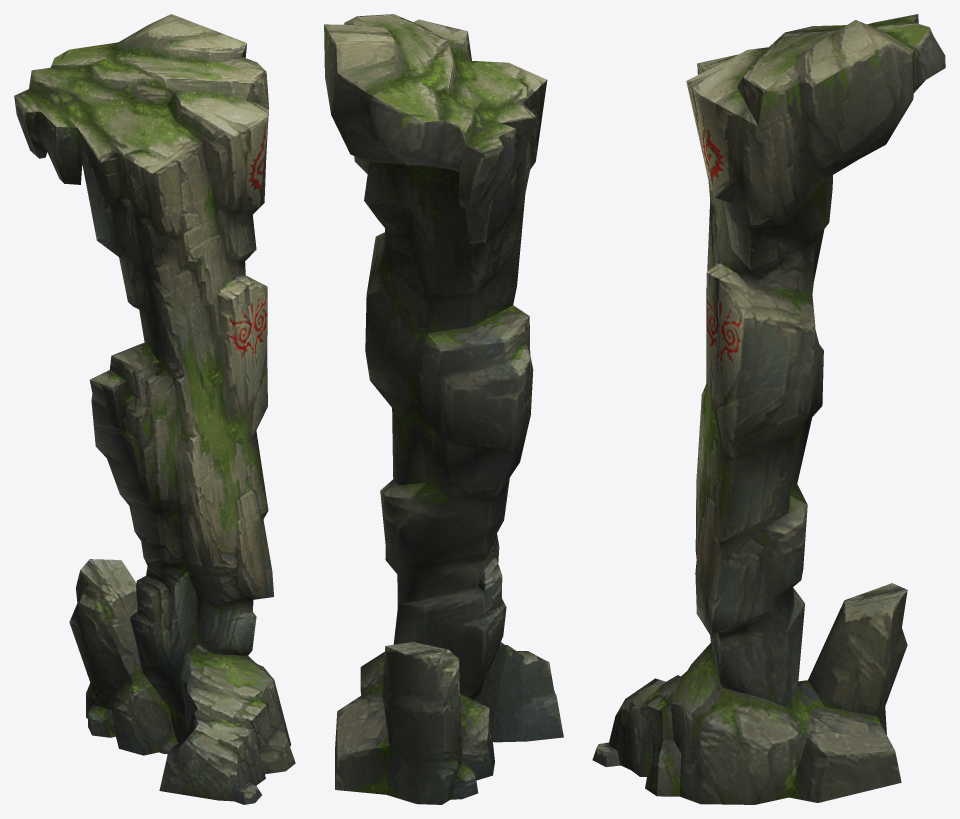
File: 7001_Item_shitou_1.FBX
The picture shows the model from 3 angles, left to right: view 1: azimuth 30°, elevation 25°; view 2: azimuth 150°, elevation 25°; view 3: azimuth 270°, elevation 25°; orthographic projection. The views are drawn at different scales.
Visible parts, largest first — view 1: 7001_Item_shitou_1; view 2: 7001_Item_shitou_1; view 3: 7001_Item_shitou_1.
Boxes of the visible parts, box(x1,y1,x2,y2) form: 7001_Item_shitou_1: box(14, 14, 295, 804); 7001_Item_shitou_1: box(324, 14, 563, 804); 7001_Item_shitou_1: box(592, 14, 945, 804).
Bounding box in the file's own units: 875 × 2945 × 1261.
